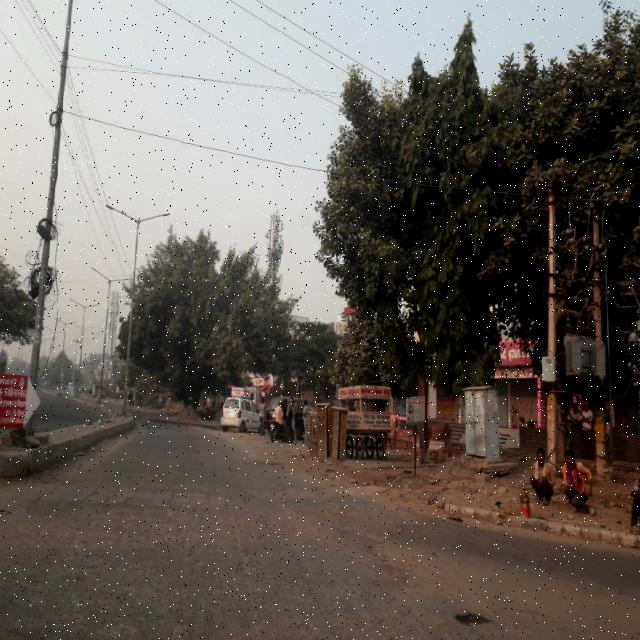D40: (452, 606, 498, 628)
